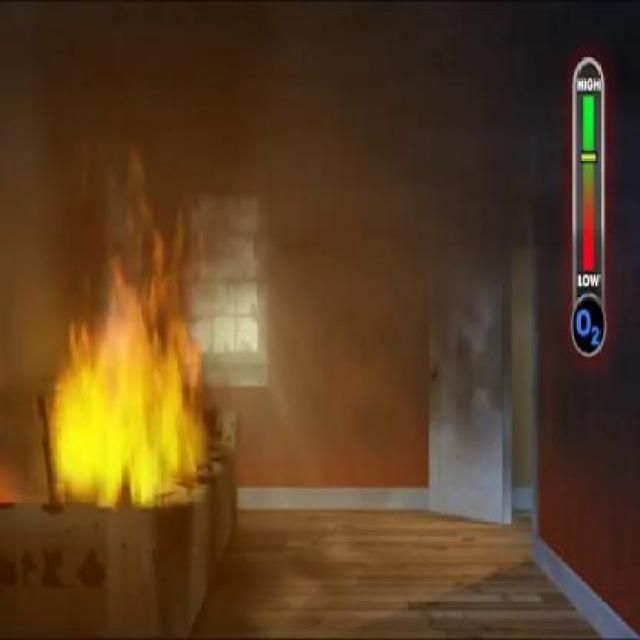fire: (62, 288, 204, 500)
smoke: (1, 1, 281, 212), (408, 28, 550, 406)
